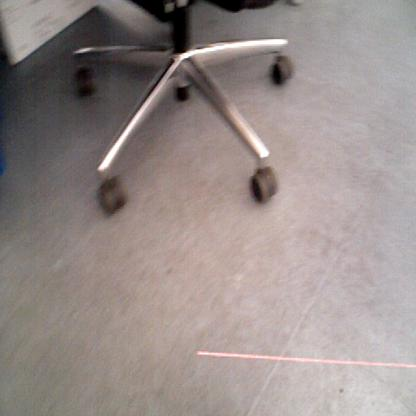mark: (338, 386, 345, 395)
